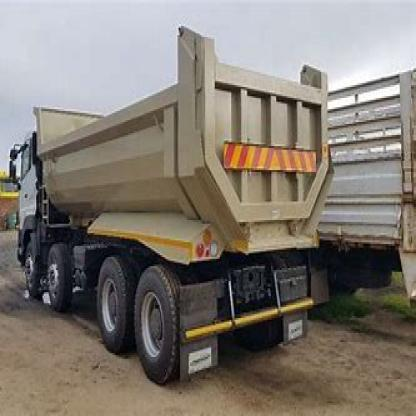dump_truck: (1, 17, 341, 398)
